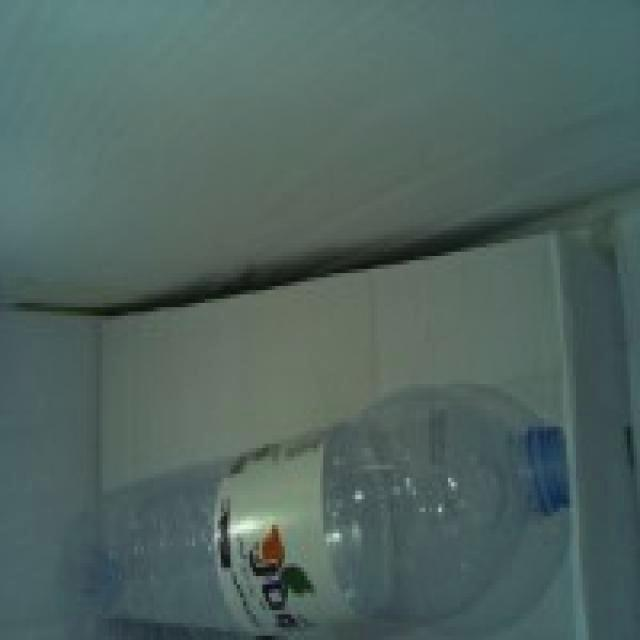bottle: (62, 386, 571, 640)
